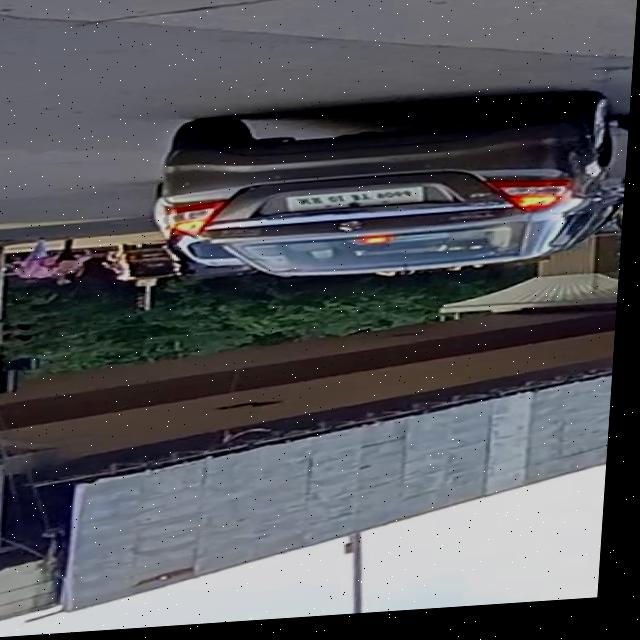plate: (291, 192, 436, 217)
